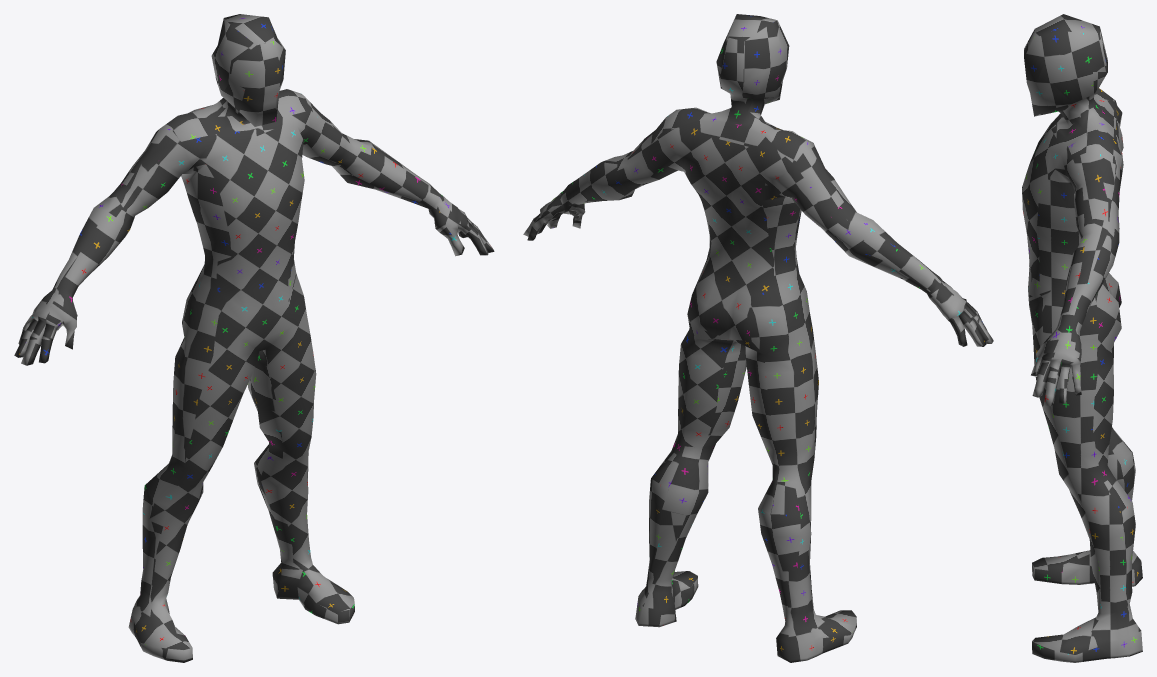
The picture shows the model from 3 angles, left to right: view 1: azimuth 30°, elevation 25°; view 2: azimuth 150°, elevation 25°; view 3: azimuth 270°, elevation 25°; orthographic projection. The views are drawn at different scales.
Parts seen in each view (by area): view 1: BaseMesh_Low_Res-Detailed_Male-Female.lwo; view 2: BaseMesh_Low_Res-Detailed_Male-Female.lwo; view 3: BaseMesh_Low_Res-Detailed_Male-Female.lwo.
Part boxes in pixels (x1,y1,x2,y2): BaseMesh_Low_Res-Detailed_Male-Female.lwo: (14,14,494,662); BaseMesh_Low_Res-Detailed_Male-Female.lwo: (523,14,993,662); BaseMesh_Low_Res-Detailed_Male-Female.lwo: (1022,14,1142,662).
Bounding box in the file's own units: 1.45 × 1.79 × 0.3314.
1 material, 1 textured.
